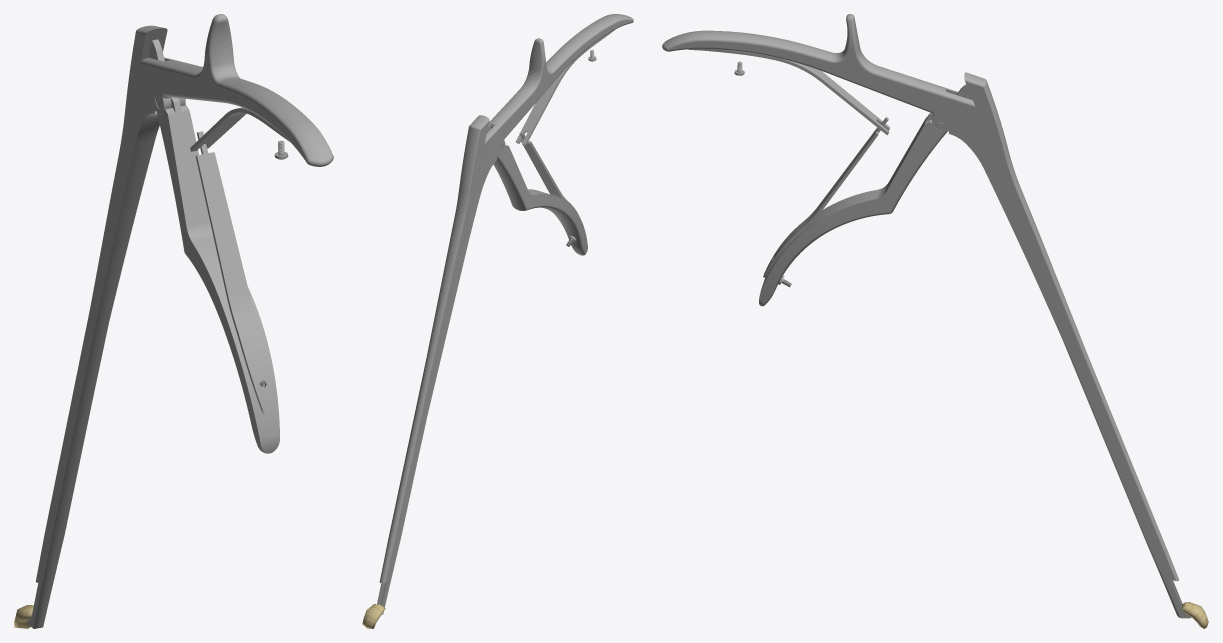
Rendered from KerrisonRongeur.fbx.
The picture shows the model from 3 angles, left to right: view 1: azimuth 30°, elevation 25°; view 2: azimuth 150°, elevation 25°; view 3: azimuth 270°, elevation 25°; orthographic projection. The views are drawn at different scales.
Visible parts, largest first — view 1: kerrison_rongeur_CGTRADER:Mesh, kerrison_rongeur_CGTRADER:Mesh2, kerrison_rongeur_CGTRADER:Mesh5, kerrison_rongeur_CGTRADER:Mesh1, kerrison_rongeur_CGTRADER:Mesh4; view 2: kerrison_rongeur_CGTRADER:Mesh, kerrison_rongeur_CGTRADER:Mesh1, kerrison_rongeur_CGTRADER:Mesh2, kerrison_rongeur_CGTRADER:Mesh4, kerrison_rongeur_CGTRADER:Mesh5; view 3: kerrison_rongeur_CGTRADER:Mesh, kerrison_rongeur_CGTRADER:Mesh1, kerrison_rongeur_CGTRADER:Mesh2, kerrison_rongeur_CGTRADER:Mesh4, kerrison_rongeur_CGTRADER:Mesh5.
Part boxes in pixels (box(x1,y1,x2,y2)): kerrison_rongeur_CGTRADER:Mesh: box(27, 14, 333, 628); kerrison_rongeur_CGTRADER:Mesh2: box(148, 39, 279, 453); kerrison_rongeur_CGTRADER:Mesh5: box(195, 131, 272, 414); kerrison_rongeur_CGTRADER:Mesh1: box(35, 25, 167, 582); kerrison_rongeur_CGTRADER:Mesh4: box(190, 107, 289, 151); kerrison_rongeur_CGTRADER:Mesh: box(377, 14, 633, 614); kerrison_rongeur_CGTRADER:Mesh1: box(379, 115, 489, 583); kerrison_rongeur_CGTRADER:Mesh2: box(487, 129, 587, 255); kerrison_rongeur_CGTRADER:Mesh4: box(515, 29, 615, 145); kerrison_rongeur_CGTRADER:Mesh5: box(519, 131, 578, 214); kerrison_rongeur_CGTRADER:Mesh: box(662, 14, 1191, 618); kerrison_rongeur_CGTRADER:Mesh1: box(964, 72, 1179, 581); kerrison_rongeur_CGTRADER:Mesh2: box(759, 84, 972, 306); kerrison_rongeur_CGTRADER:Mesh4: box(688, 49, 890, 134); kerrison_rongeur_CGTRADER:Mesh5: box(763, 117, 888, 277).
Size of the model in its own units: 877 by 7783 by 6452.
